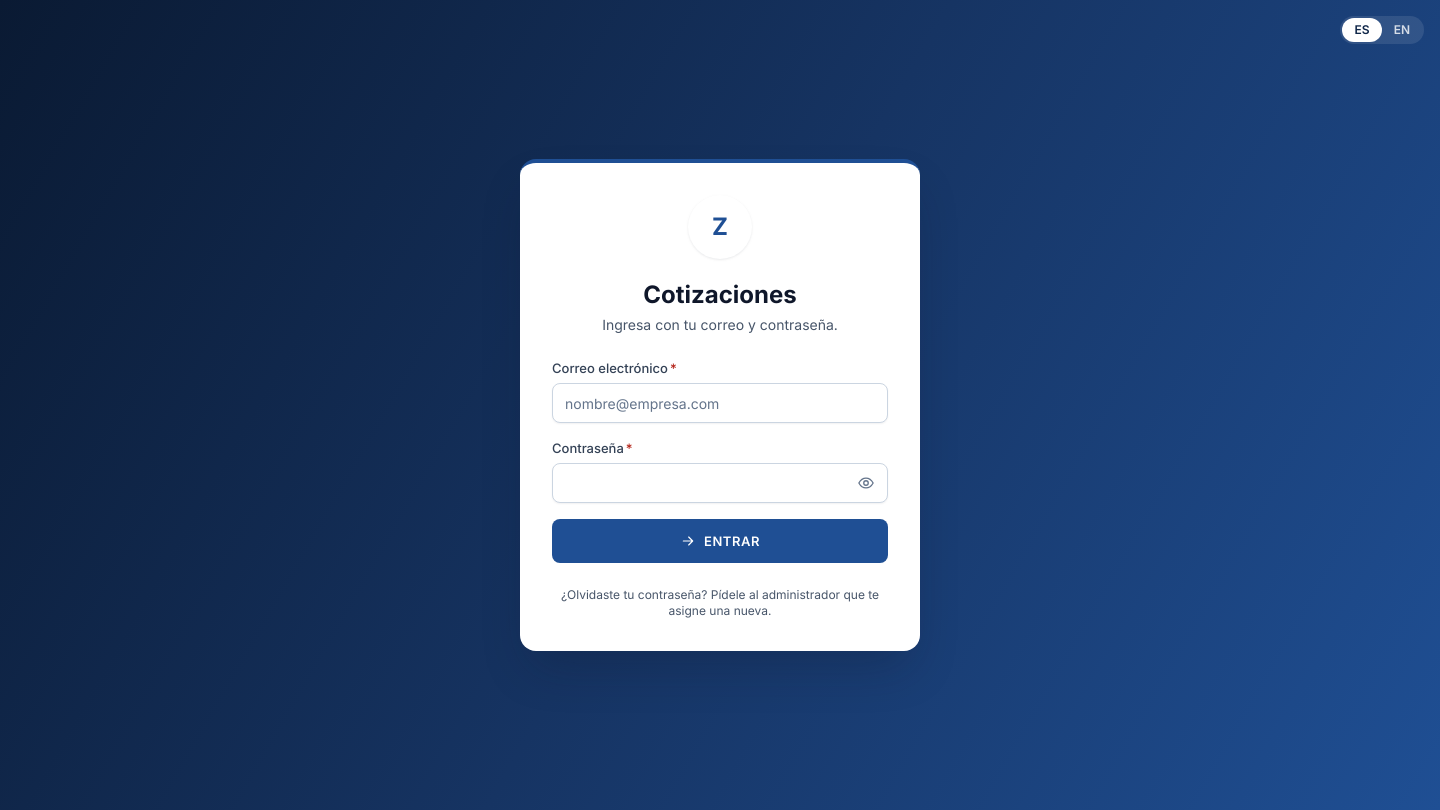
Scenario: LoginPage › translates INVALID_CREDENTIALS
Type "ana@empresa.co" into the field labelled "Correo electrónico*" at coordinates (720, 403), box top-left (552, 383), bottom-right (888, 423)
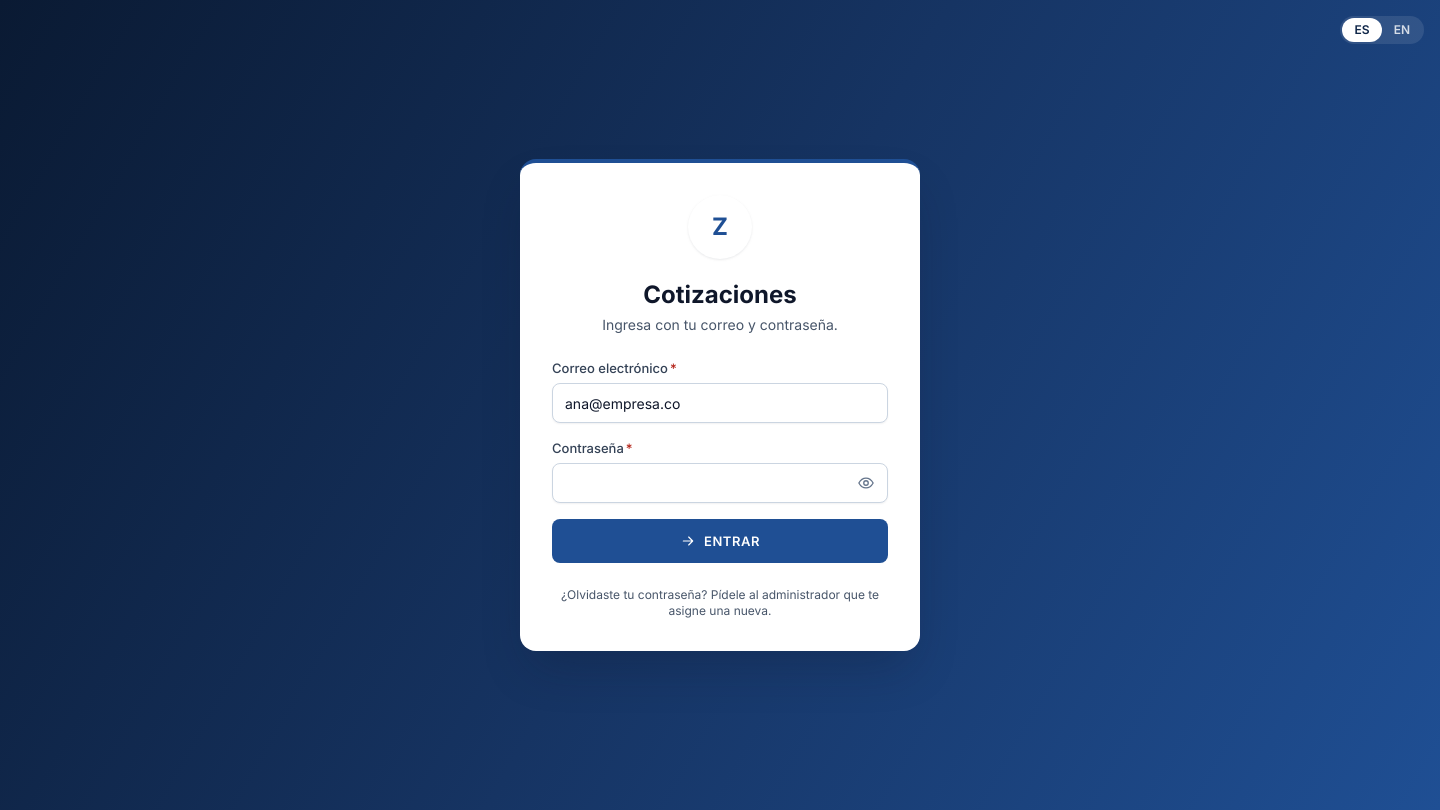
Type "mala123456" into the password field labelled "Contraseña*" at coordinates (720, 483), box top-left (552, 463), bottom-right (888, 503)
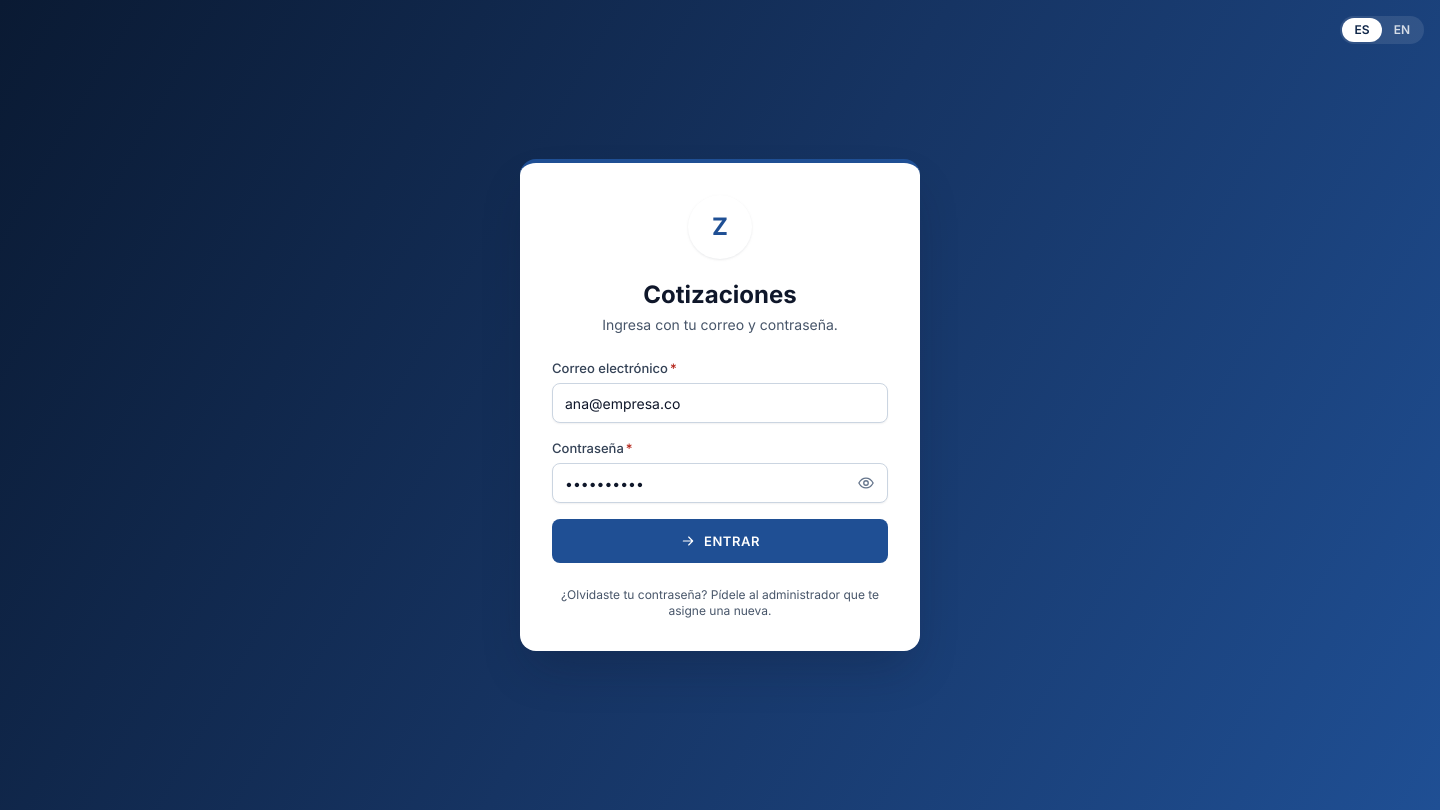
Click the button "Entrar" at coordinates (720, 541), box top-left (552, 519), bottom-right (888, 563)
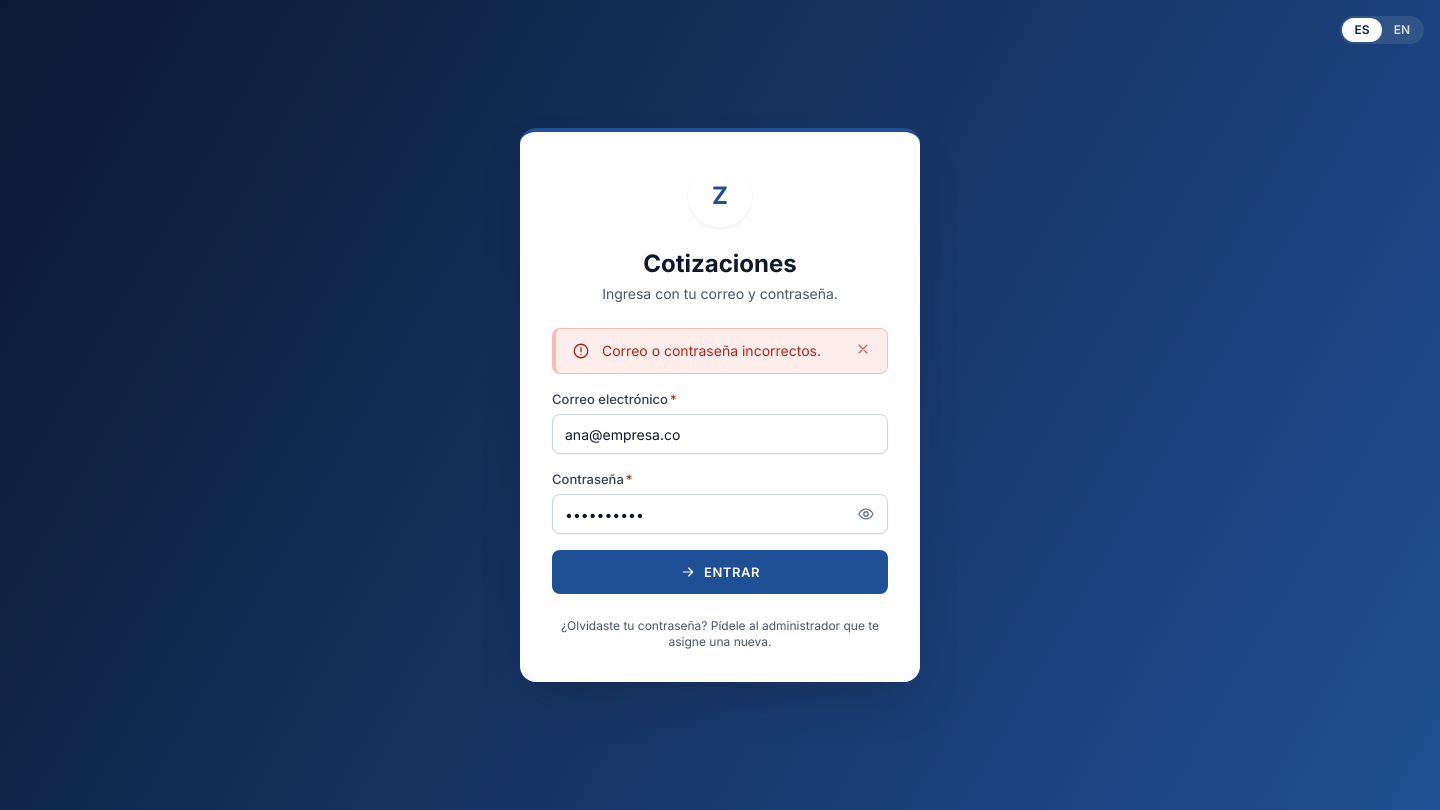
expect the text "Correo o contraseña incorrectos." is shown: met, box top-left (602, 341), bottom-right (843, 361)
